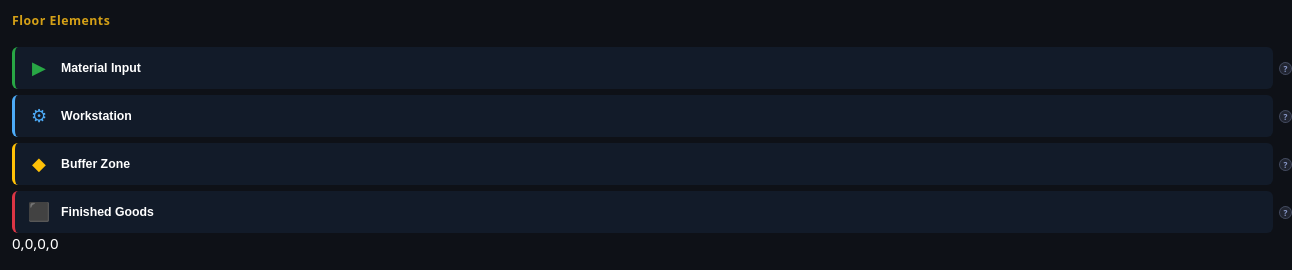
Scenario: ElementPalette (StationPalette) › adds each element type to its own layout array
This screenshot has width=1292, height=270.
Click the button with aria-label "Add Material Input". click: [101, 68]
box: [12,47,1273,89]
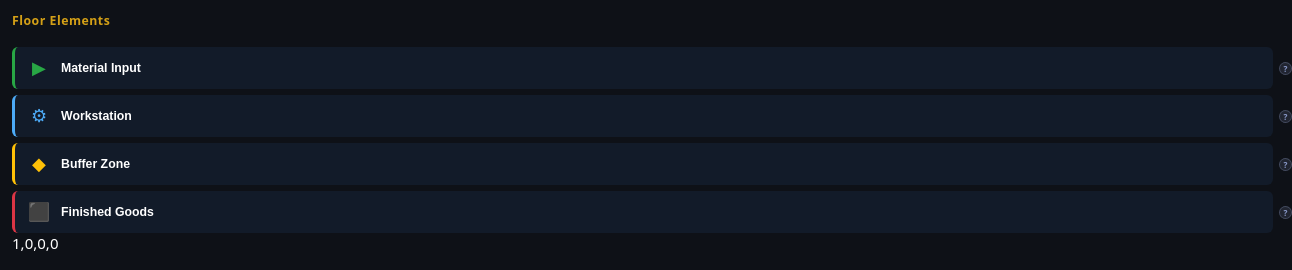
Click the button with aria-label "Add Workstation". click: [96, 116]
box: [12,95,1273,137]
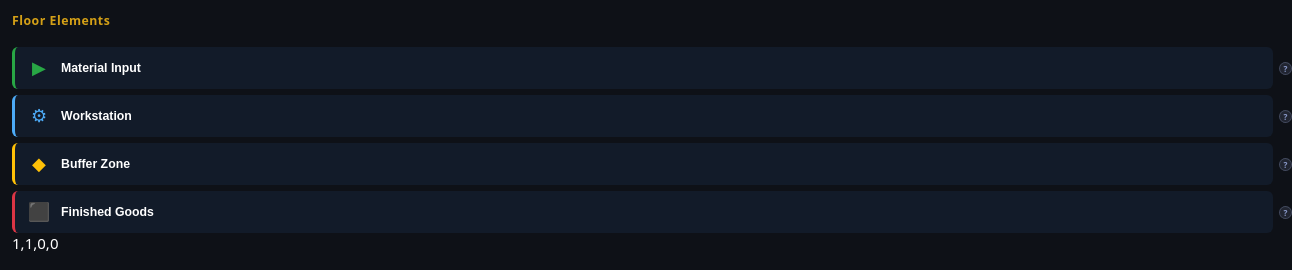
Click the button with aria-label "Add Buffer Zone". click: [96, 164]
box: [12,143,1273,185]
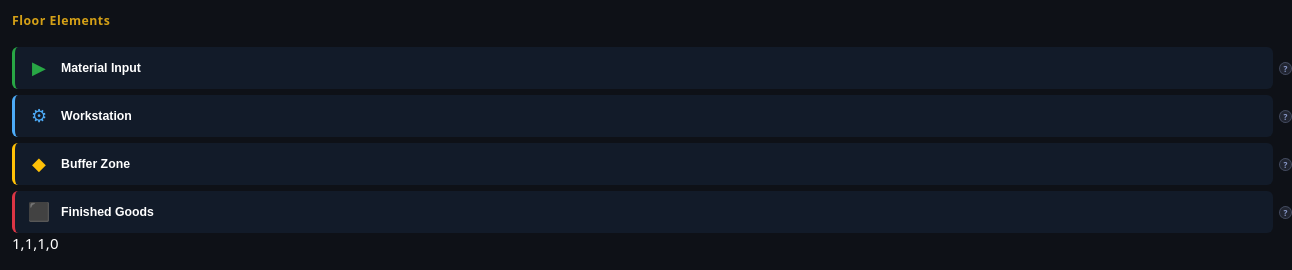
Click the button with aria-label "Add Finished Goods". click: [107, 212]
box: [12,191,1273,233]
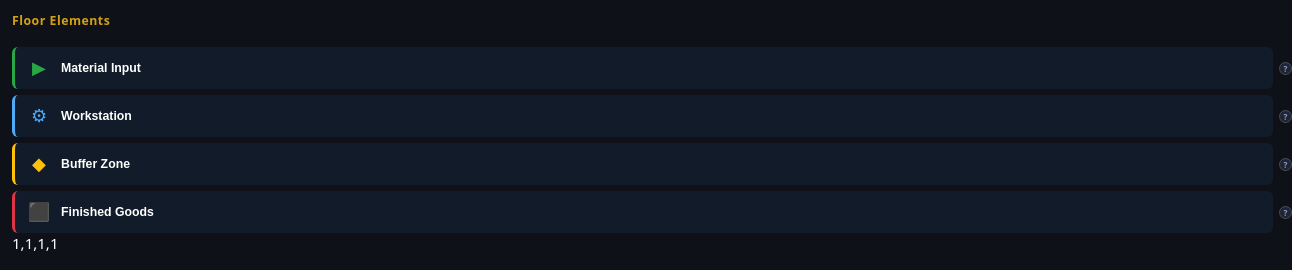
Now the text with test id "counts" reads "1,1,1,1", box [12,233,58,253]
